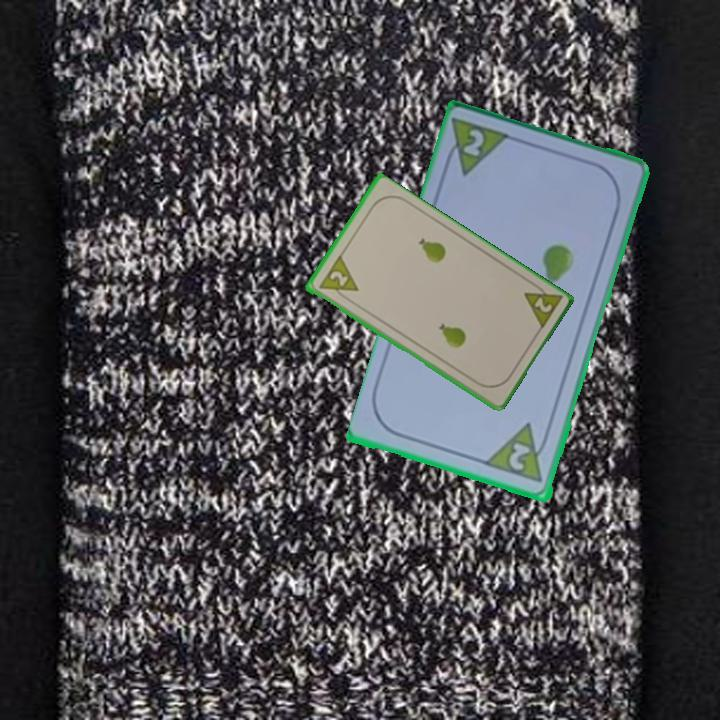2p: (439, 115, 515, 181), (483, 420, 554, 487), (519, 278, 564, 334), (326, 267, 351, 289)
